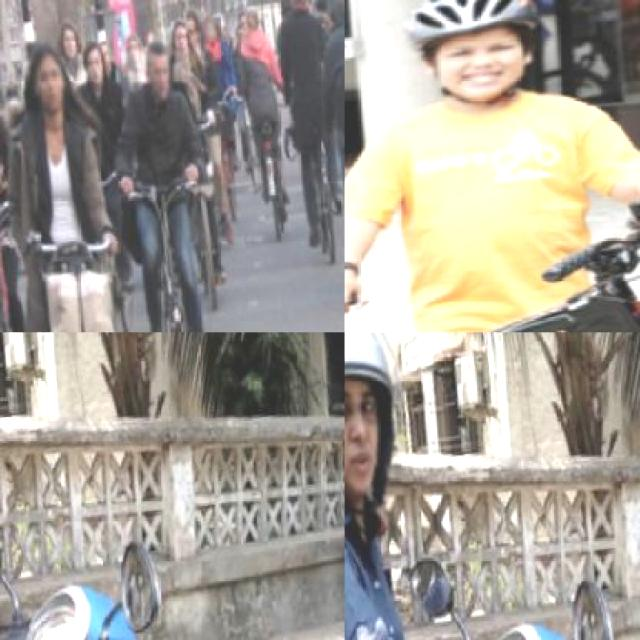With Helmet: (380, 0, 572, 125), (345, 332, 429, 532)
Without Helmet: (15, 25, 77, 117), (134, 23, 183, 108), (171, 13, 194, 59), (200, 12, 222, 40), (241, 3, 262, 29), (328, 0, 343, 29), (284, 0, 312, 12)
